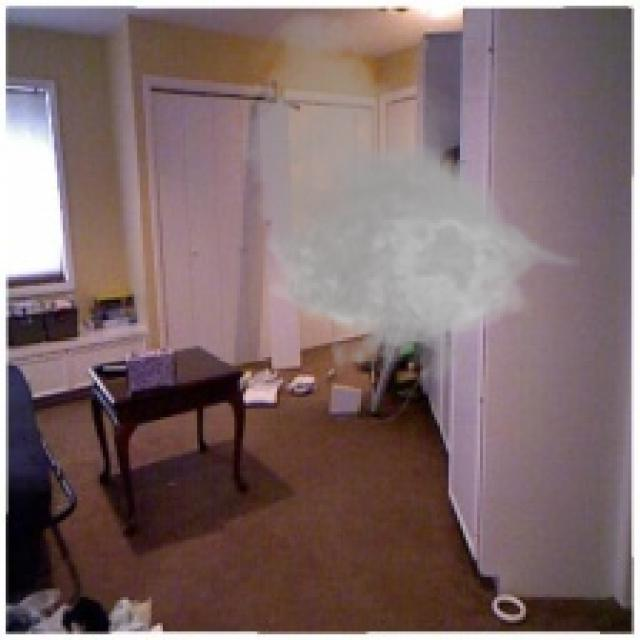smoke: (228, 6, 586, 394)
